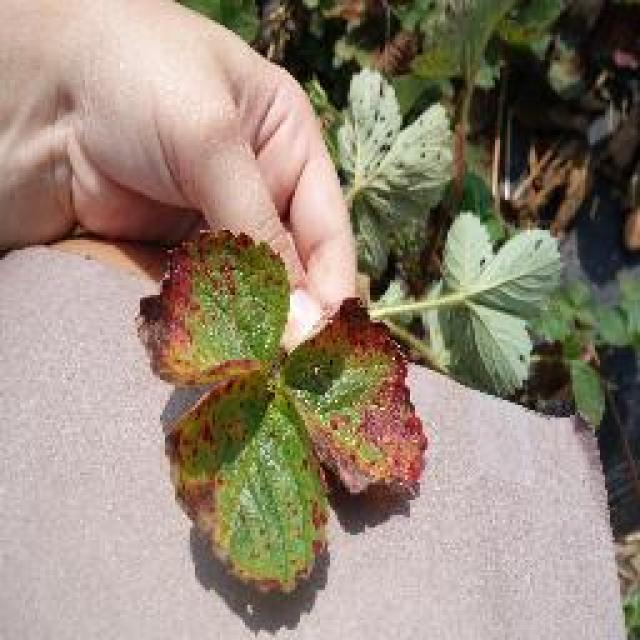Strawberry leaf scorch: (172, 273, 382, 480)
